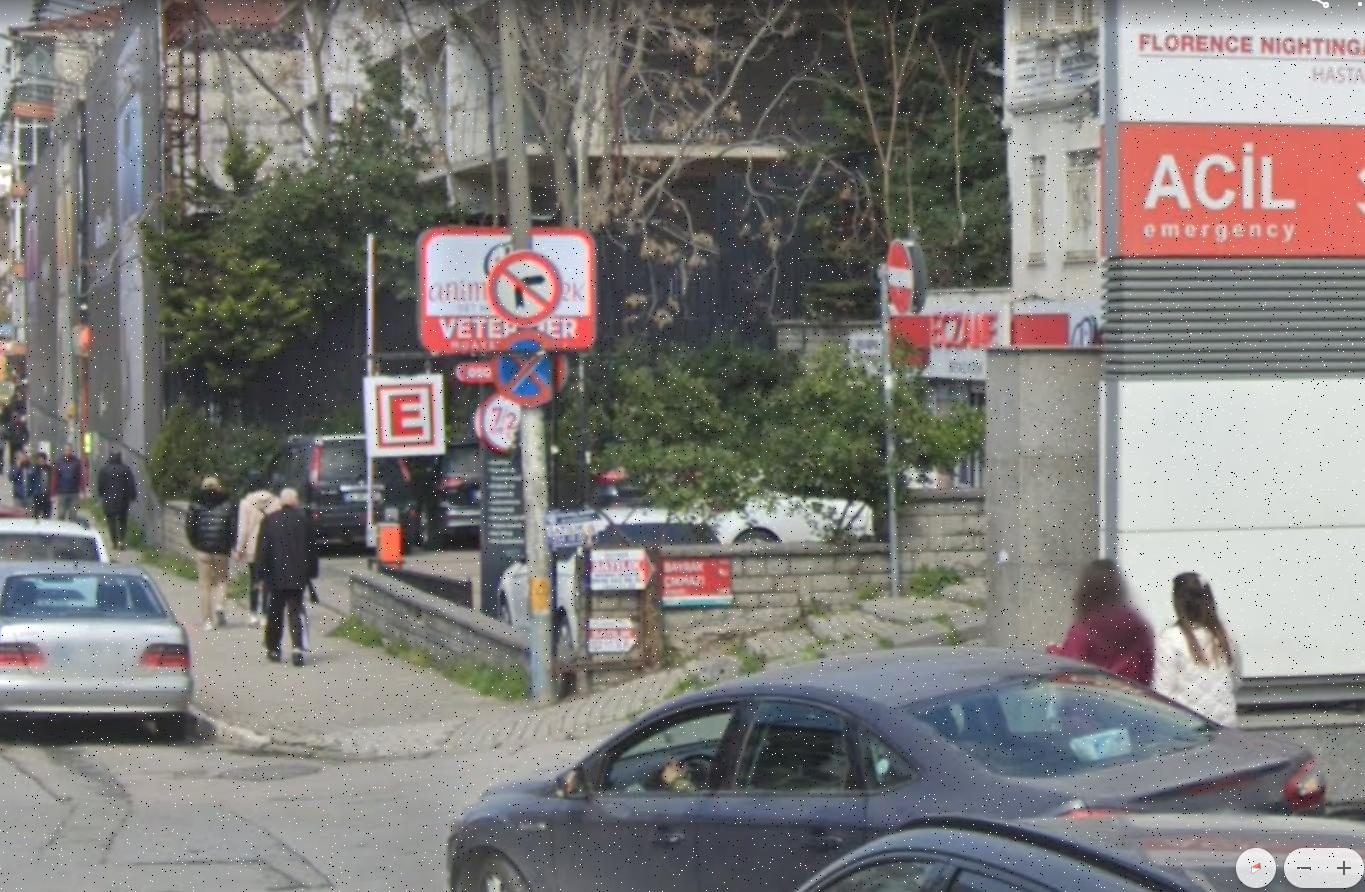rightturnsareforbidden: (494, 252, 557, 319)
